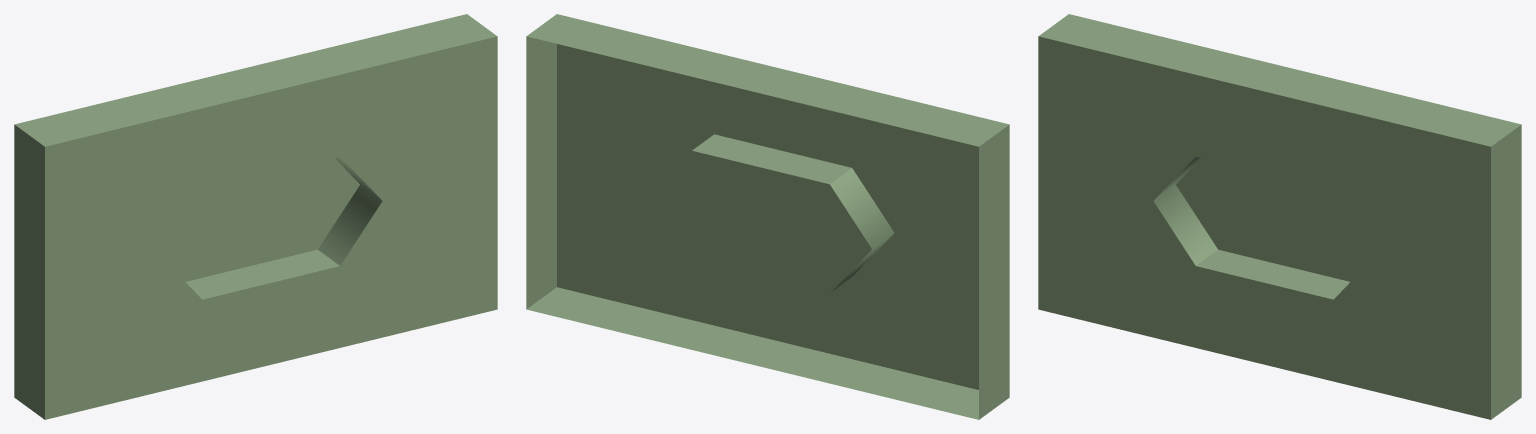
The model's file is Socket.fbx.
3 views of the same model, side by side, from view 1: azimuth 30°, elevation 25°; view 2: azimuth 150°, elevation 25°; view 3: azimuth 330°, elevation 25° (orthographic).
Visible parts, largest first — view 1: Socket; view 2: Socket; view 3: Socket.
Part boxes in pixels (left/top/right/bottom): Socket: left=14, top=14, right=497, bottom=419; Socket: left=526, top=14, right=1009, bottom=419; Socket: left=1038, top=14, right=1521, bottom=419.
Bounding box in the file's own units: 18.06 × 10.42 × 2.11.
